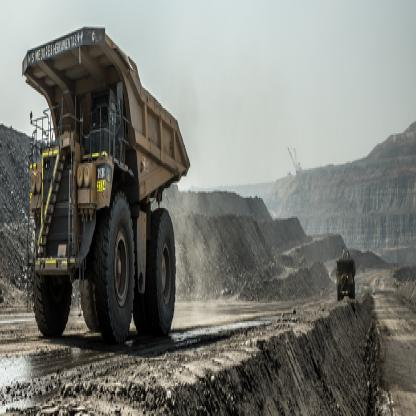dump_truck: (7, 23, 194, 361), (333, 223, 358, 306)
